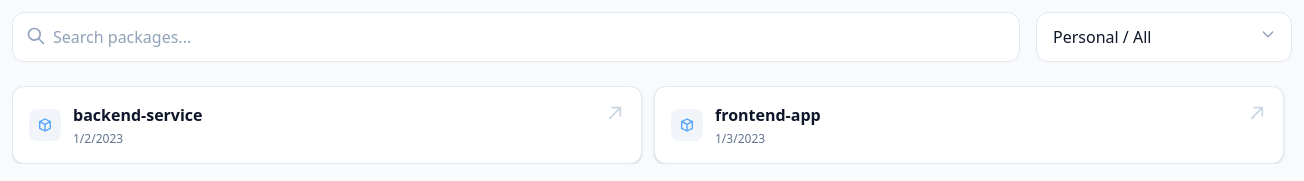
Test: GitHubImagePicker › filters packages via search input
Expected: the text "backend-service" is shown, [73,103,202,127]
Type "front" into the field with placeholder "Search packages..." at (516, 37), box [12,12,1020,62]
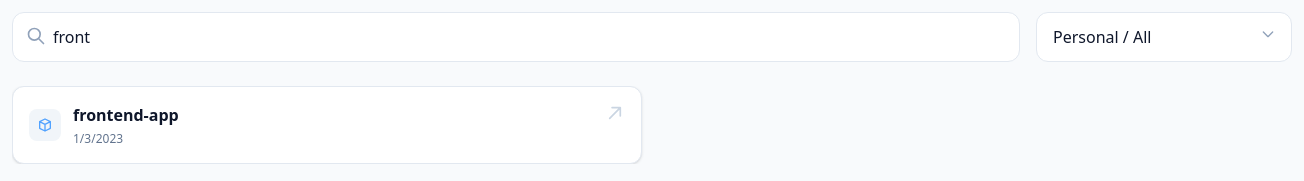
Expected: the text "frontend-app" is shown, [73,103,179,127]
Now the button "backend-service" is gone
